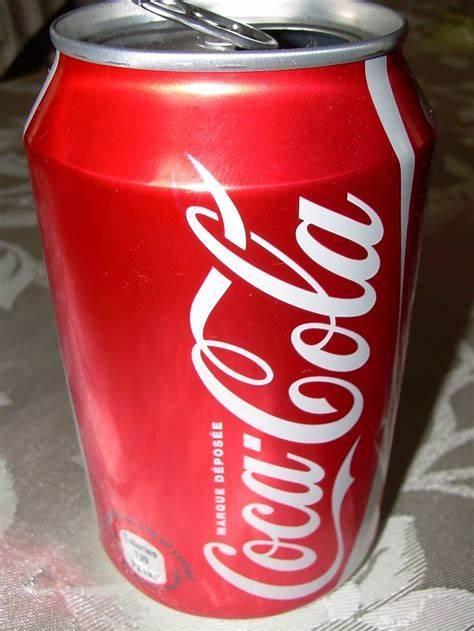metal: (24, 0, 436, 620)
